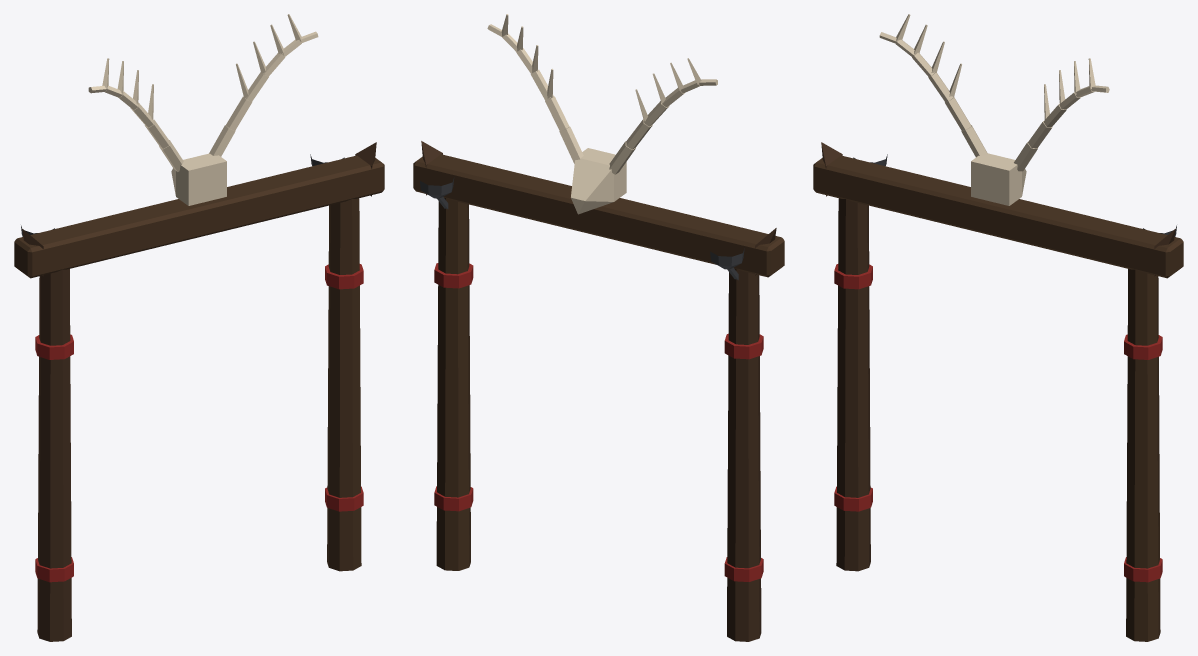
Rendered from DecorAntlers.glb.
3 views of the same model, side by side, from view 1: azimuth 30°, elevation 25°; view 2: azimuth 150°, elevation 25°; view 3: azimuth 330°, elevation 25° (orthographic).
Visible parts, largest first — view 1: Mat_Wood_463121, Mat_Wood_483321, Mat_Cloth_ba7c6e, Mat_Cloth_dccdb4; view 2: Mat_Wood_463121, Mat_Wood_483321, Mat_Cloth_ba7c6e, Mat_Cloth_dccdb4, Mat_Metal_424448; view 3: Mat_Wood_463121, Mat_Wood_483321, Mat_Cloth_ba7c6e, Mat_Cloth_dccdb4.
Part boxes in pixels (<box>): Mat_Wood_463121: <box>22,142,376,641</box>; Mat_Wood_483321: <box>14,155,384,278</box>; Mat_Cloth_ba7c6e: <box>35,85,363,582</box>; Mat_Cloth_dccdb4: <box>88,14,318,156</box>; Mat_Wood_463121: <box>421,141,776,641</box>; Mat_Wood_483321: <box>413,154,784,277</box>; Mat_Cloth_ba7c6e: <box>434,80,763,581</box>; Mat_Cloth_dccdb4: <box>487,14,717,163</box>; Mat_Metal_424448: <box>420,177,744,280</box>; Mat_Wood_463121: <box>821,142,1175,641</box>; Mat_Wood_483321: <box>813,155,1183,278</box>; Mat_Cloth_ba7c6e: <box>834,32,1162,582</box>; Mat_Cloth_dccdb4: <box>896,14,1109,171</box>.
Bounding box in the file's own units: 7.4 × 11.13 × 1.28.
Materials: 1 (1 with a texture image).
